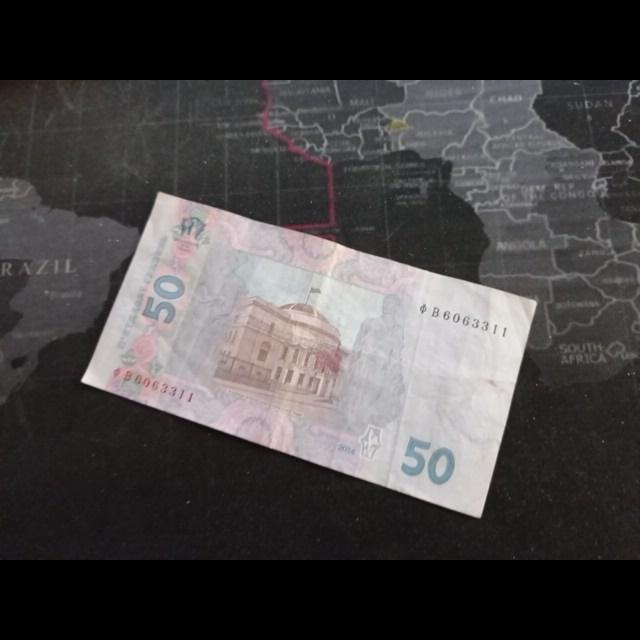50uah: (79, 191, 538, 519)
